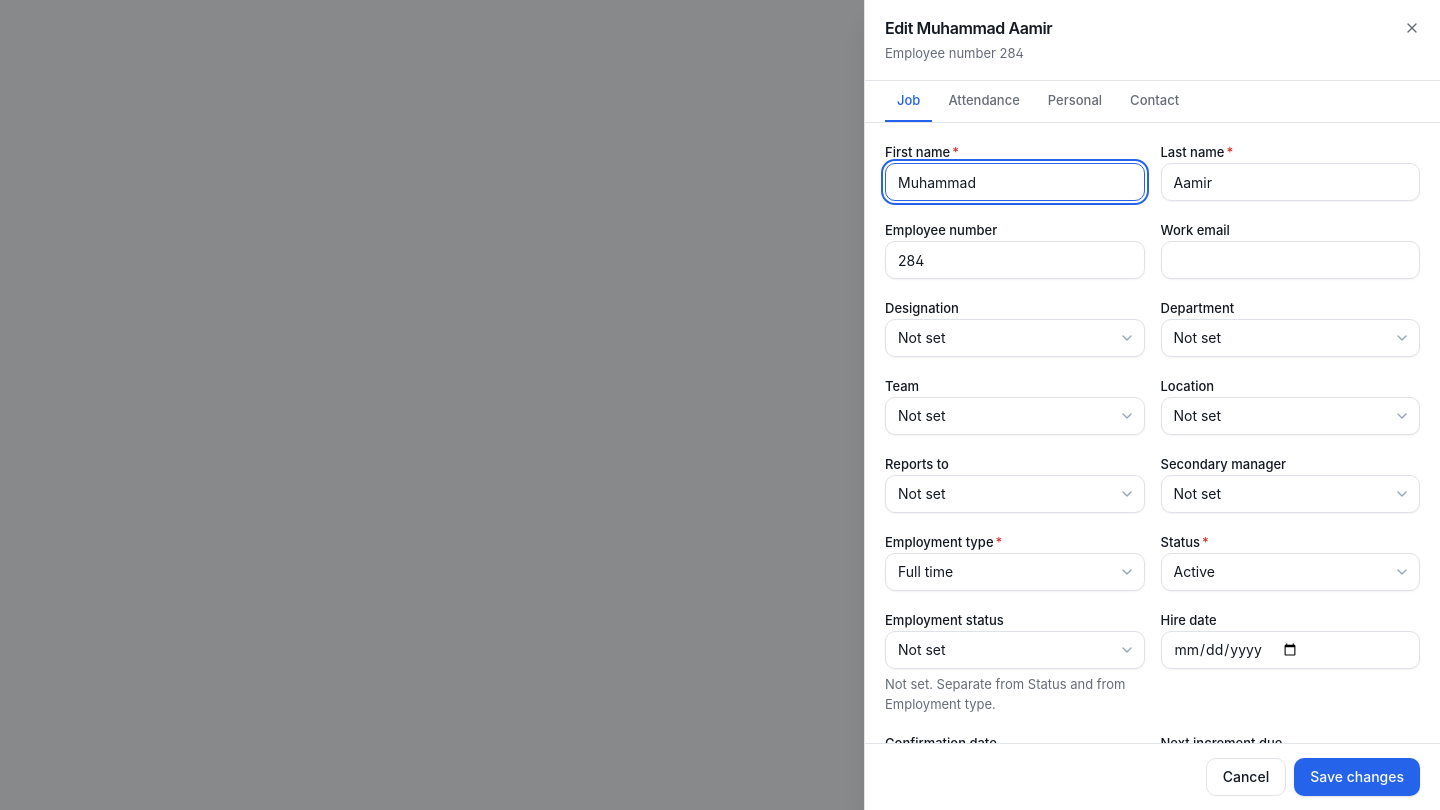
Test: editing an employee › prefills the code the employee already punches under
The image size is (1440, 810).
What coordinates should you click on to do the following:
click the button "Attendance"
I would click on:
 (984, 101)
Its box is [936,80,1032,122].
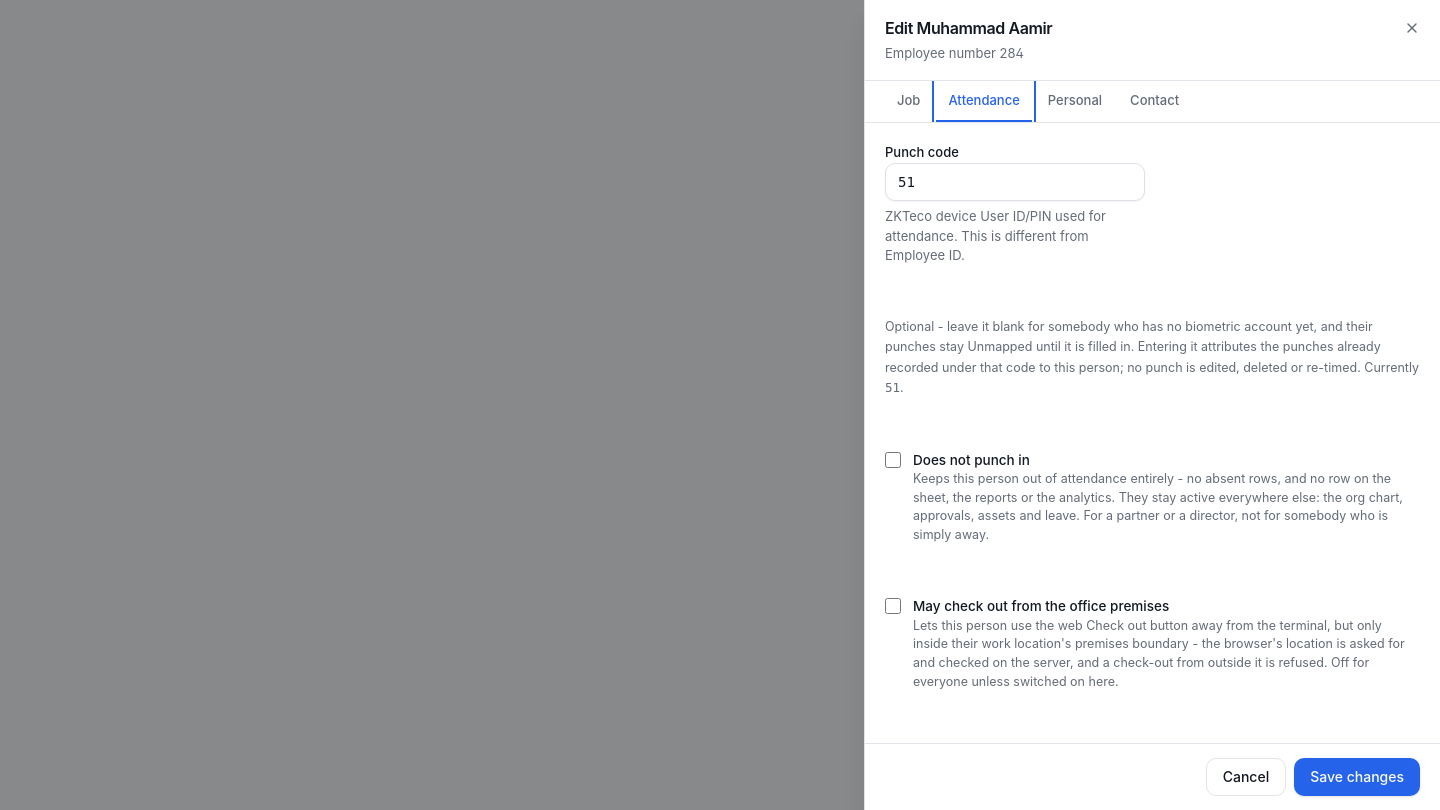
Expected: the field labelled "Punch code" holds "51", [885,163,1144,201]
